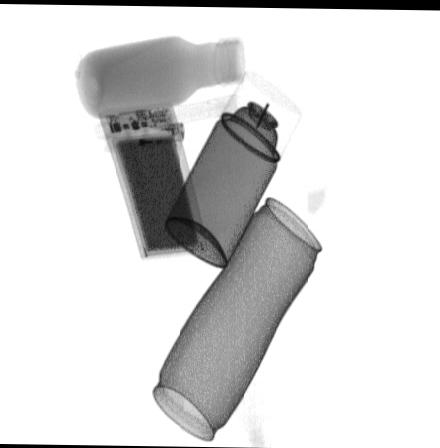Lighter: (100, 121, 186, 151)
Powerbank: (96, 96, 207, 259)
Sprayer: (164, 70, 301, 268)
